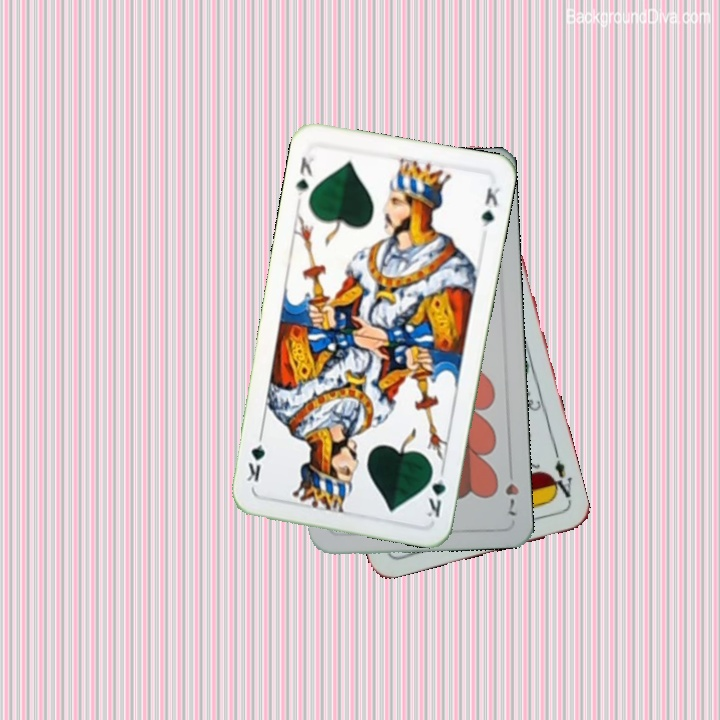EA: (545, 456, 574, 501)
GK: (423, 462, 449, 520), (292, 153, 317, 200)
H7: (501, 462, 521, 518)
